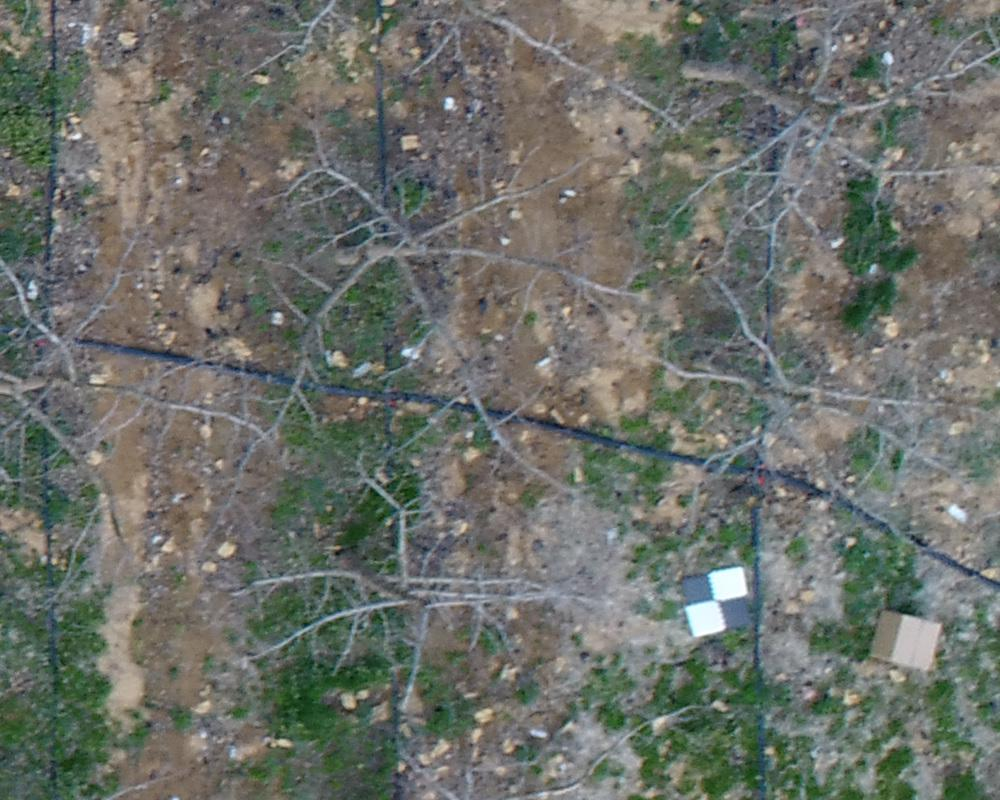apple: (235, 124, 649, 508), (224, 449, 615, 721), (10, 213, 269, 600), (624, 270, 969, 557), (661, 10, 990, 274)
